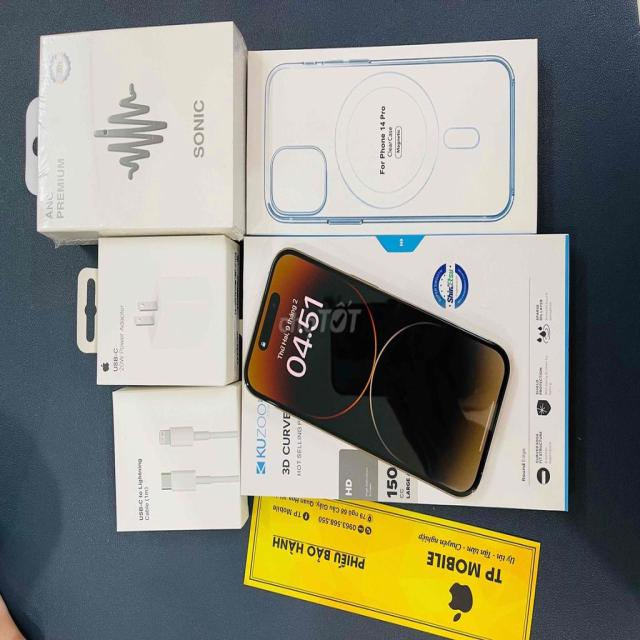gen_14: (244, 240, 517, 498)
